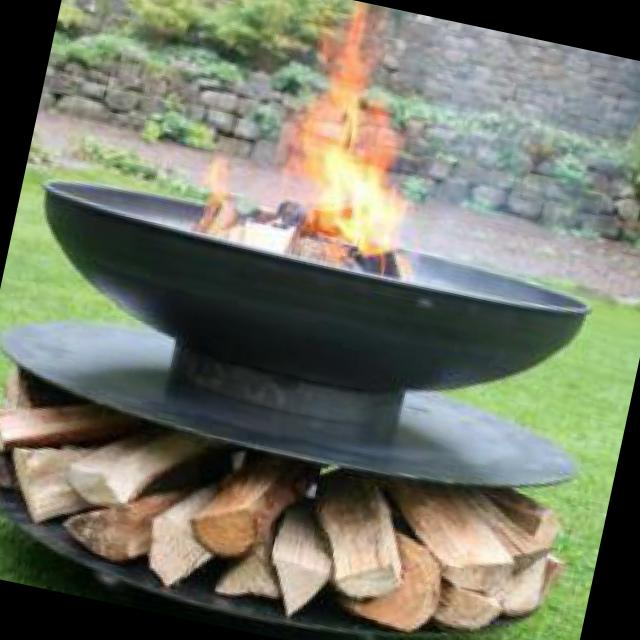fire: (242, 0, 435, 269)
